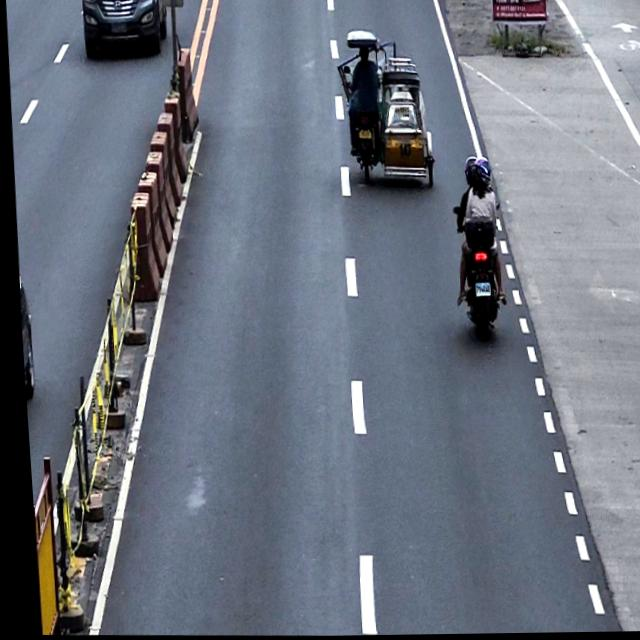Car: (78, 0, 169, 57)
License-Plate: (470, 283, 487, 299), (354, 128, 370, 142), (109, 21, 126, 33)
Motorcycle: (447, 198, 505, 337)
Tricycle: (331, 28, 436, 189)
